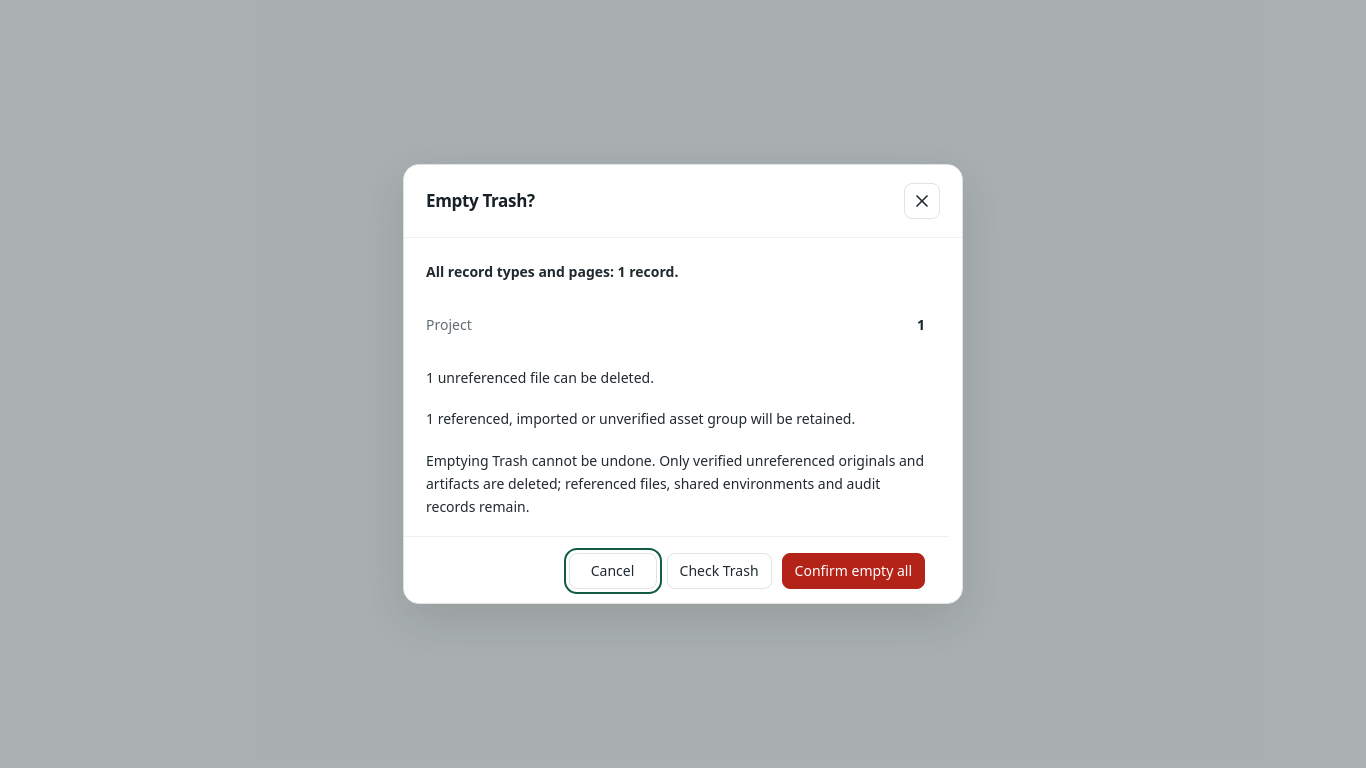
Test: renders truthful singular counts and does not present retained referenced files as incomplete deletion
The width and height of the screenshot is (1366, 768).
Expected: the text "All record types and pages: 1 record." is shown, top-left (426, 262), bottom-right (678, 281)
Expected: the text "1 unreferenced file can be deleted." is shown, top-left (426, 368), bottom-right (654, 387)
Click the button "Confirm empty all". click: (853, 571)
box: top-left (782, 553), bottom-right (925, 589)
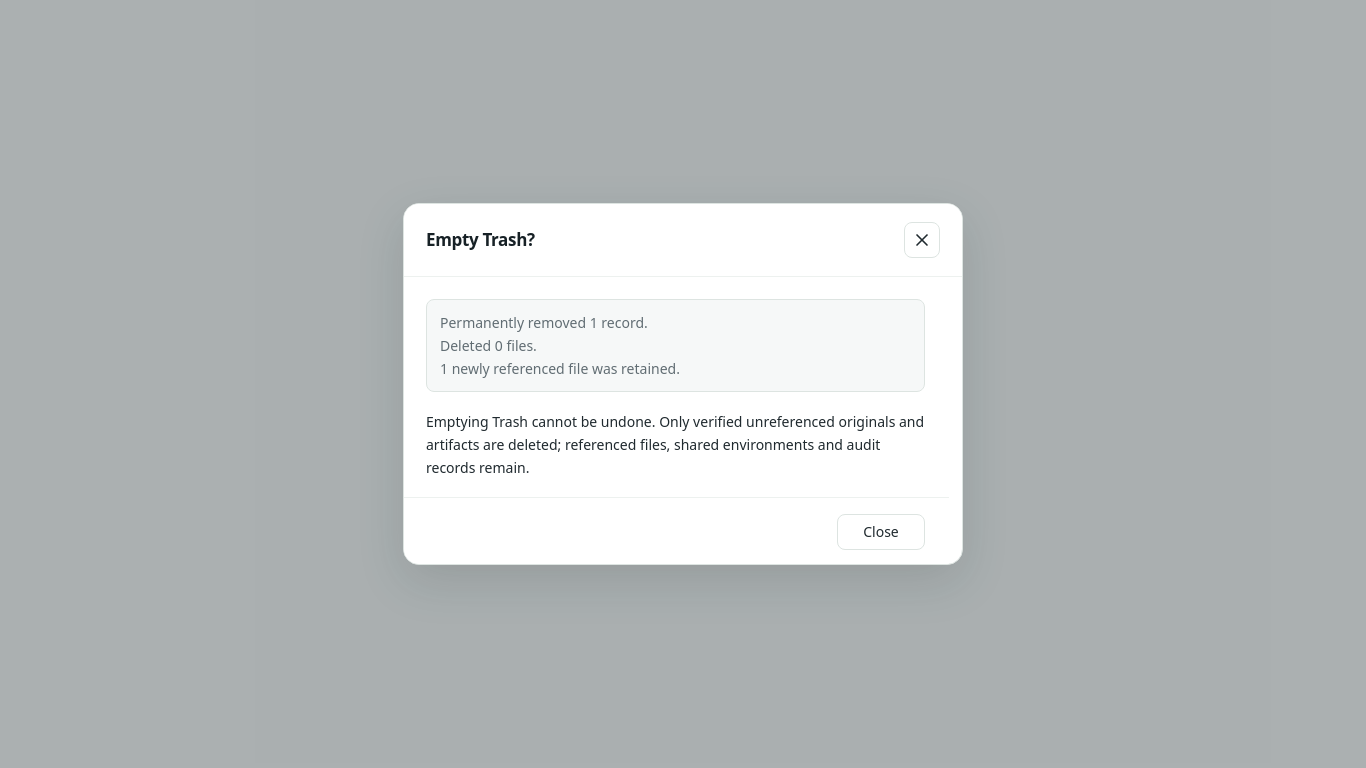
Now the text "Permanently removed 1 record." is shown, box top-left (440, 313), bottom-right (648, 332)
Now the text "1 newly referenced file was retained." is shown, box top-left (440, 359), bottom-right (680, 378)
